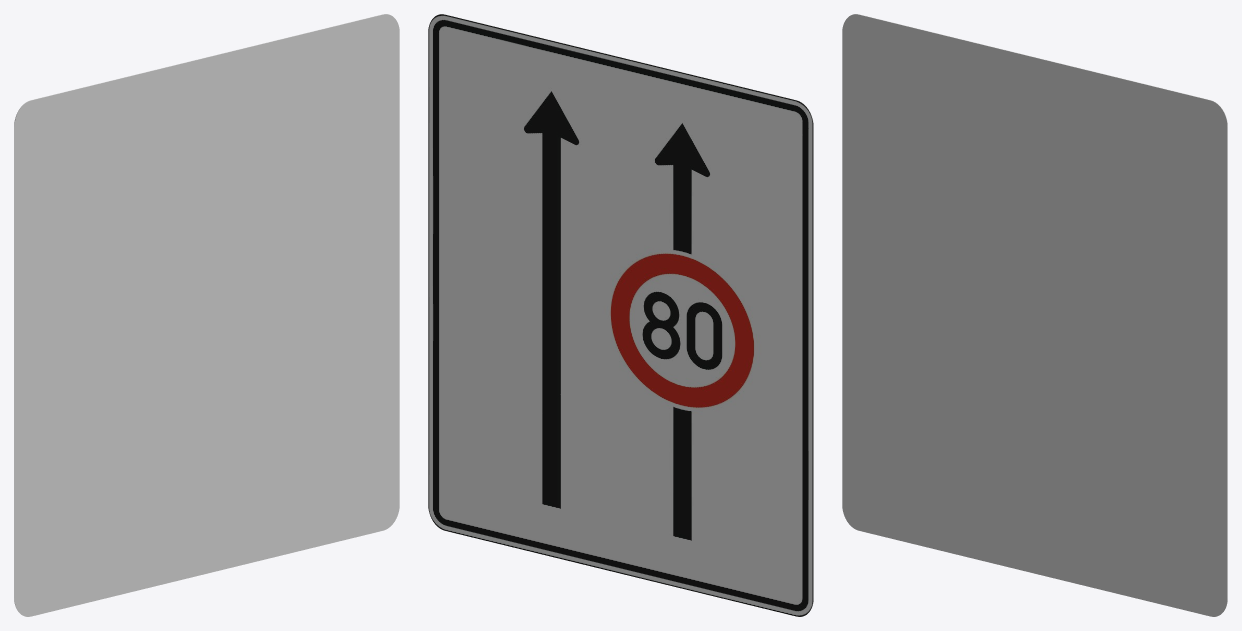
3 views of the same model, side by side, from view 1: azimuth 30°, elevation 25°; view 2: azimuth 150°, elevation 25°; view 3: azimuth 330°, elevation 25° (orthographic).
Visible parts, largest first — view 1: Plane; view 2: Plane; view 3: Plane.
Boxes of the visible parts, bbox=[...] form: Plane: bbox=[14, 14, 399, 616]; Plane: bbox=[428, 14, 813, 616]; Plane: bbox=[842, 14, 1227, 616].
Size of the model in its own units: 1.25 by 1.6 by 0.002.
2 materials, 1 textured.
